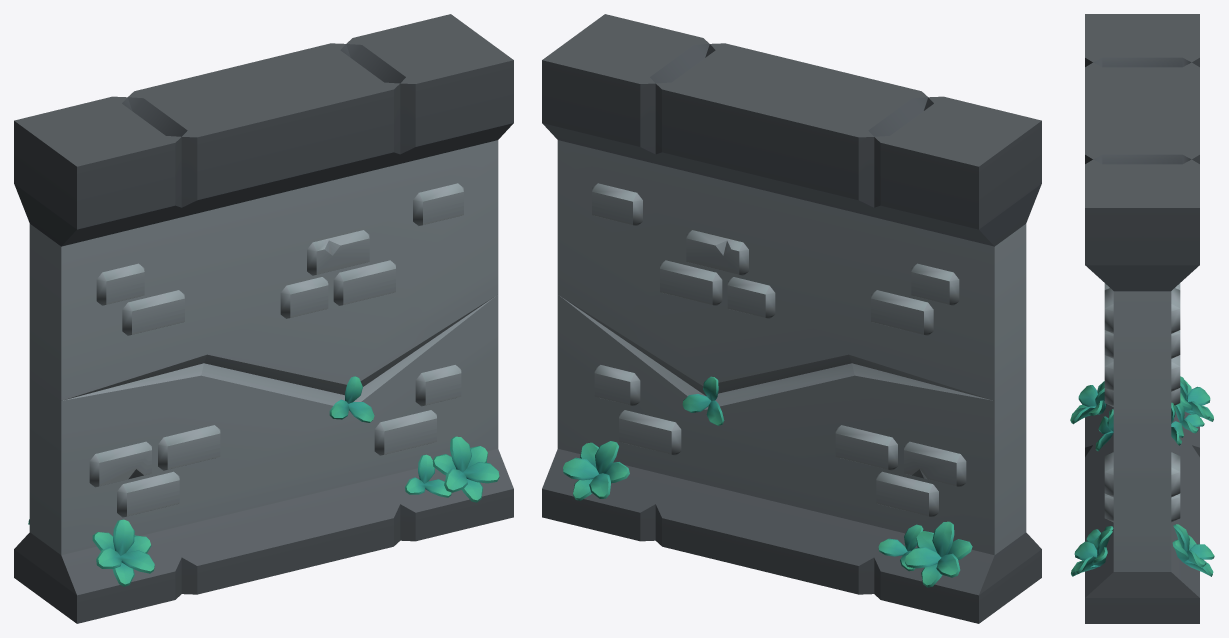
File: wall_cracked.glb
3 views of the same model, side by side, from view 1: azimuth 30°, elevation 25°; view 2: azimuth 150°, elevation 25°; view 3: azimuth 270°, elevation 25° (orthographic). The views are drawn at different scales.
Visible parts, largest first — view 1: wall_cracked; view 2: wall_cracked; view 3: wall_cracked.
Part boxes in pixels (bbox=[...]): wall_cracked: bbox=[14, 14, 513, 623]; wall_cracked: bbox=[542, 14, 1041, 623]; wall_cracked: bbox=[1070, 14, 1214, 623].
Bounding box in the file's own units: 4 × 4 × 1.26.
1 material, 1 textured.
